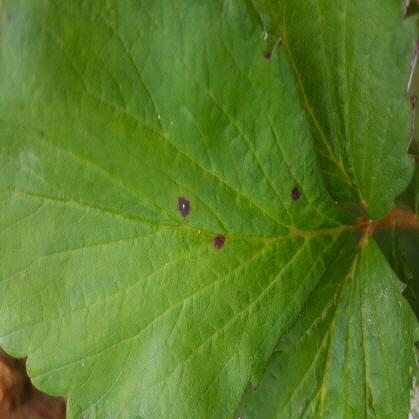Leaf Spot: (0, 0, 361, 418)
